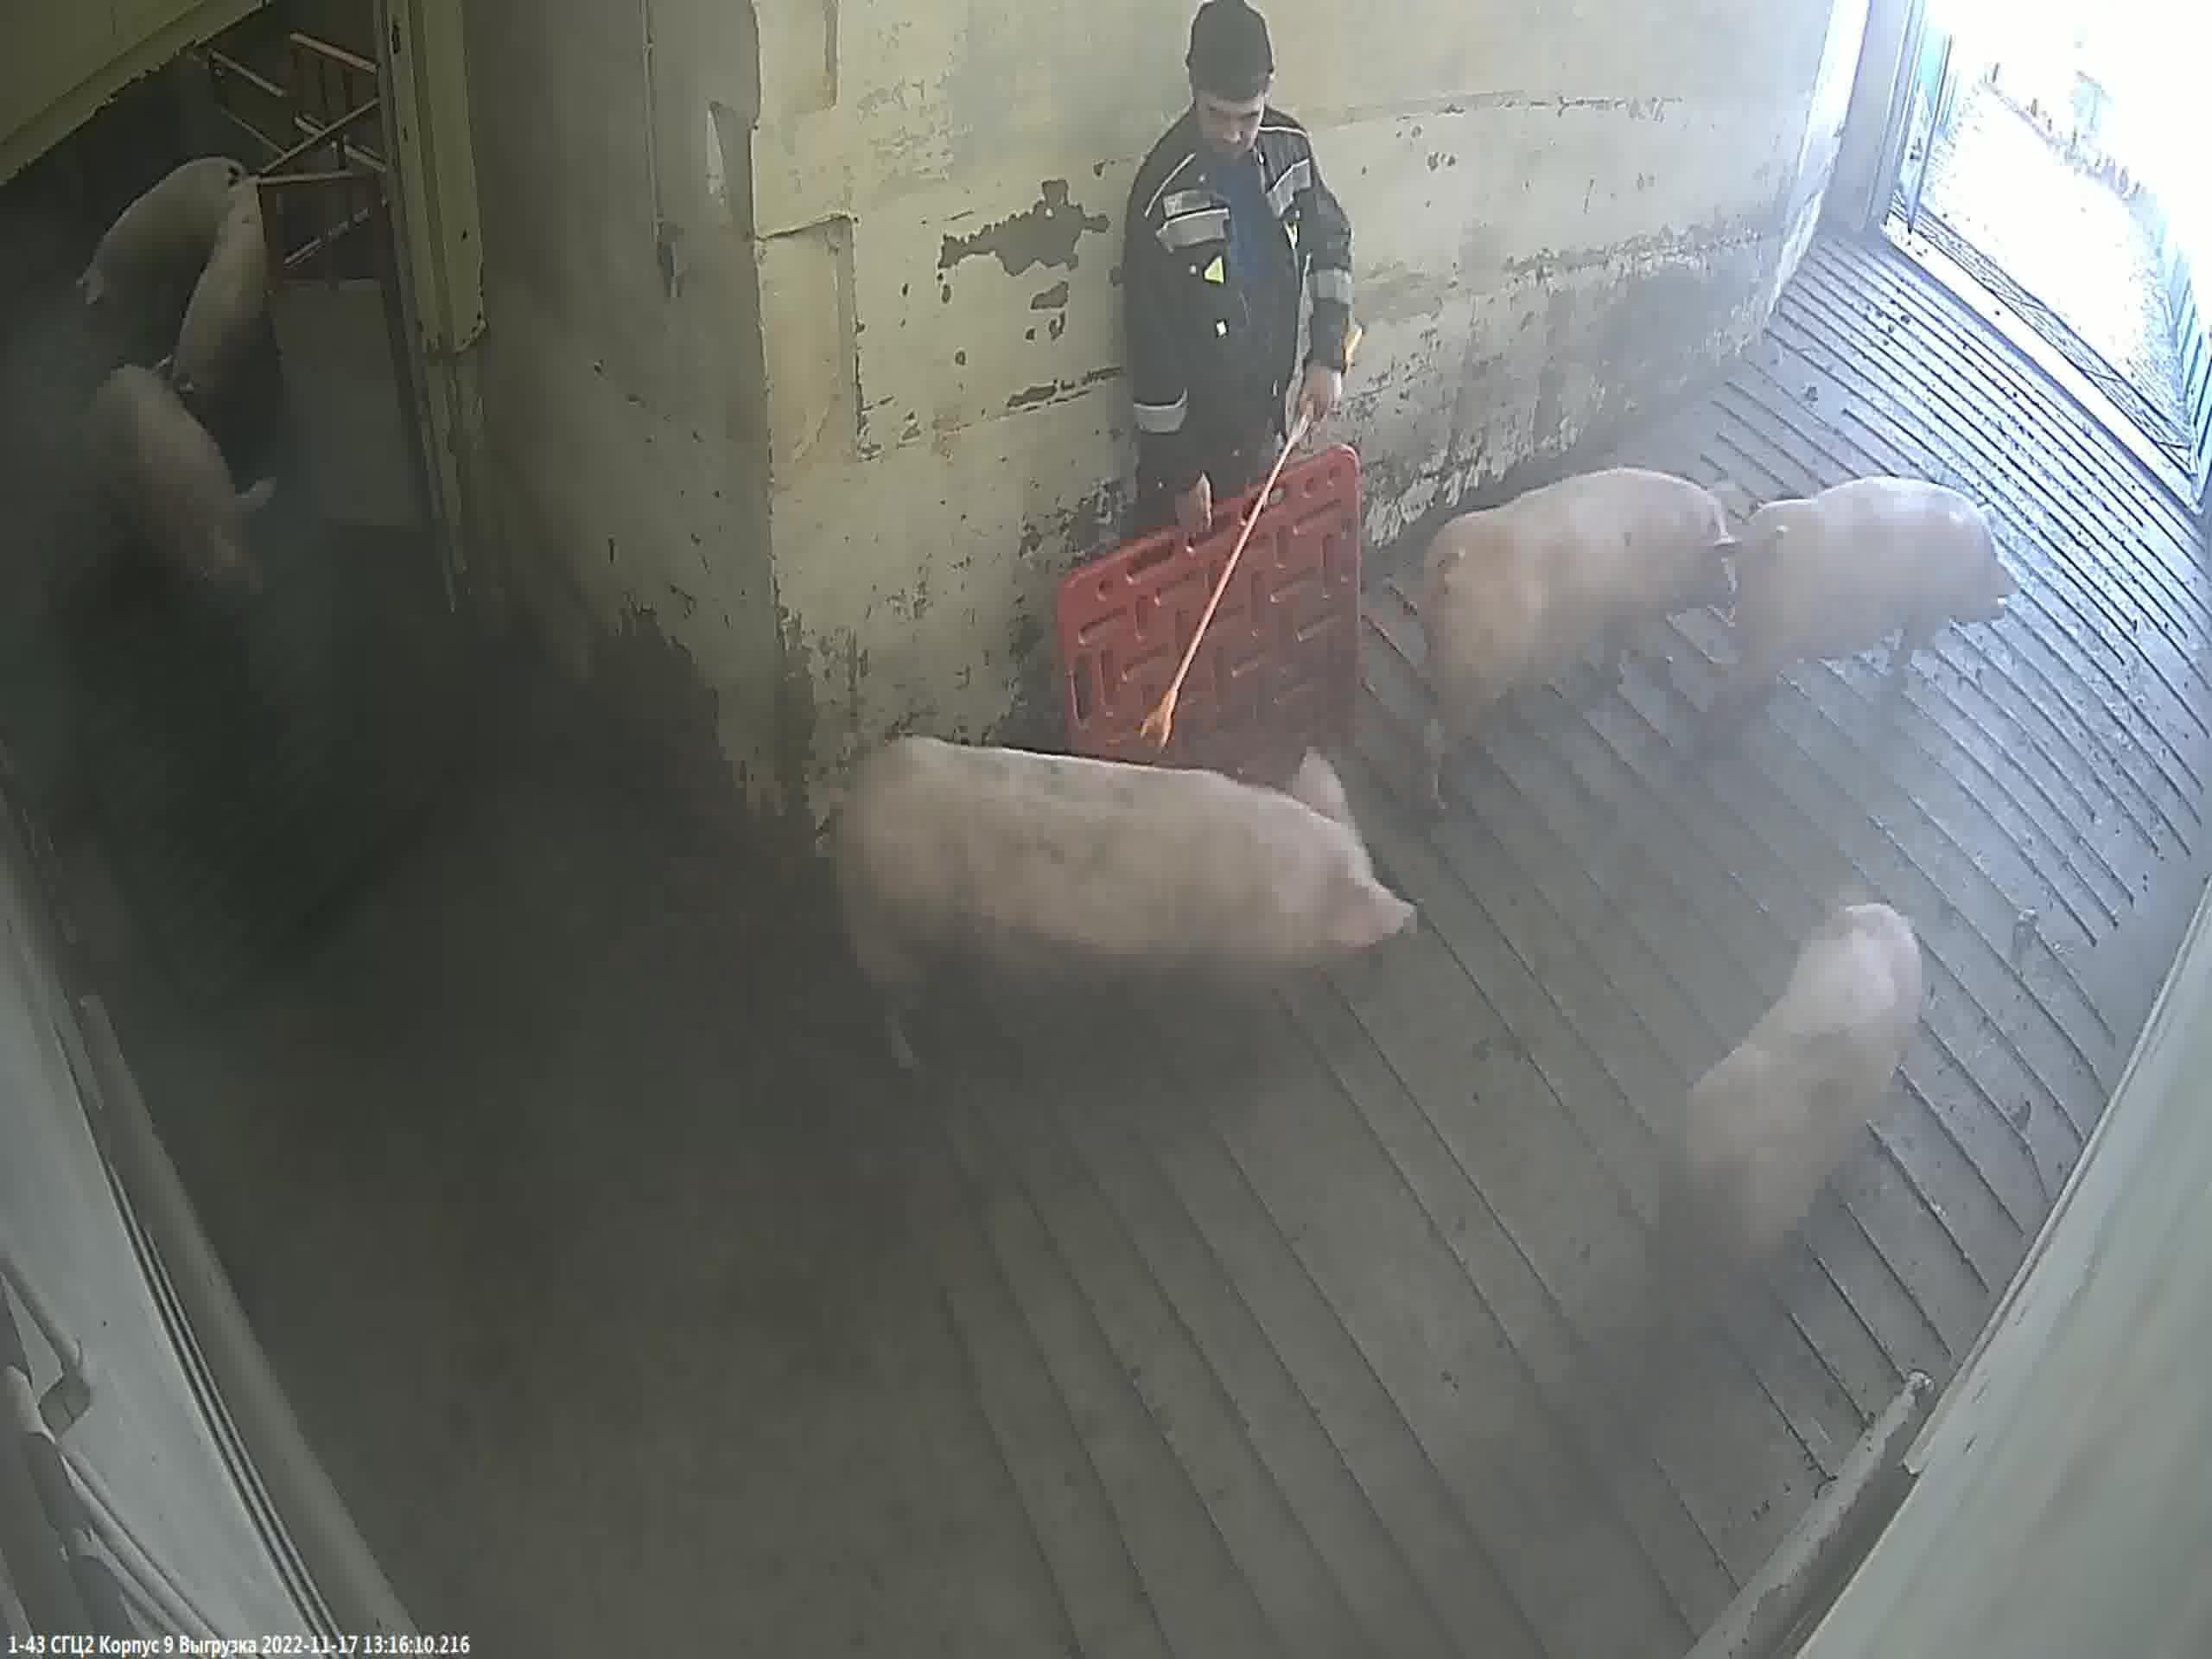Pigs: (826, 737, 1416, 1065), (1428, 469, 1738, 810), (1665, 901, 1926, 1295), (1735, 479, 2017, 702), (98, 366, 277, 594), (84, 157, 244, 307), (160, 204, 263, 429)
